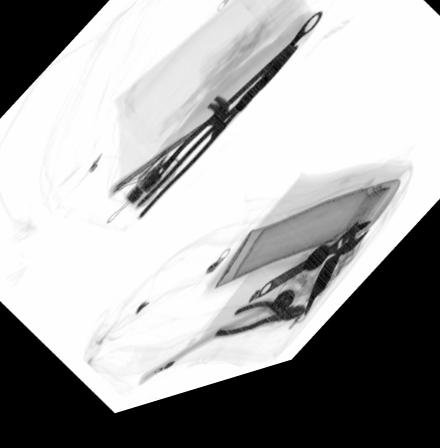Hammer: (135, 304, 300, 395), (108, 102, 230, 206)
Pliers: (136, 61, 298, 227), (210, 313, 307, 350)
Wrench: (141, 27, 325, 199), (257, 237, 370, 312)
